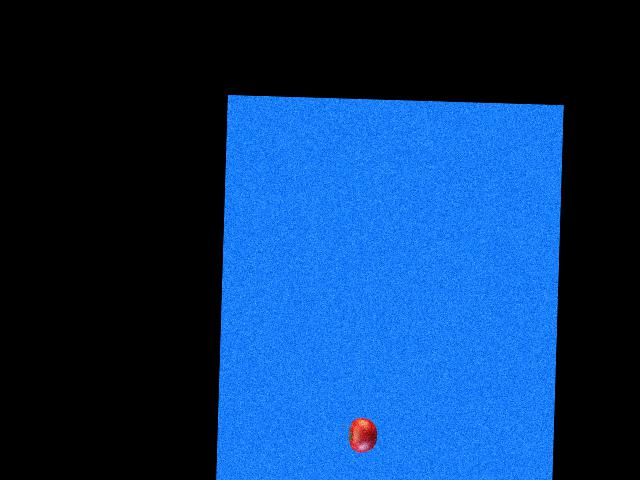tomato: (348, 418, 378, 453)
